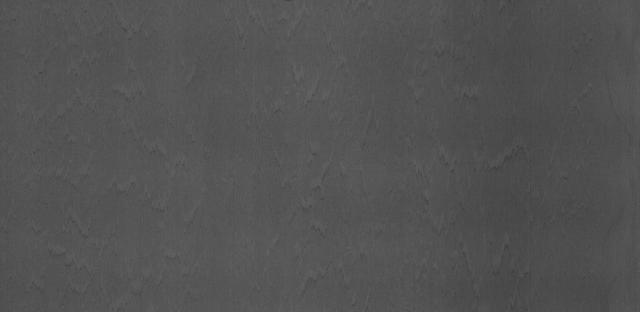silk_spot: (400, 100, 539, 266), (279, 132, 368, 247), (262, 46, 343, 99)
